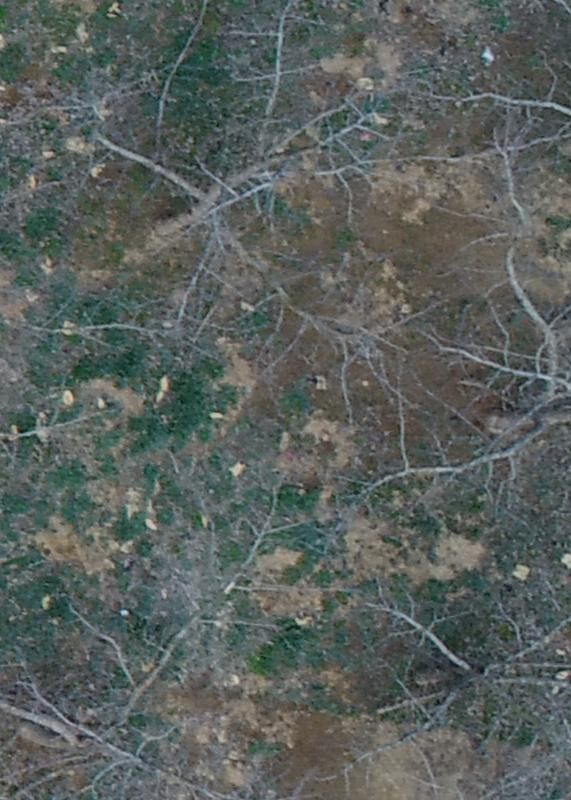apple: (60, 10, 411, 350), (10, 575, 346, 790)
